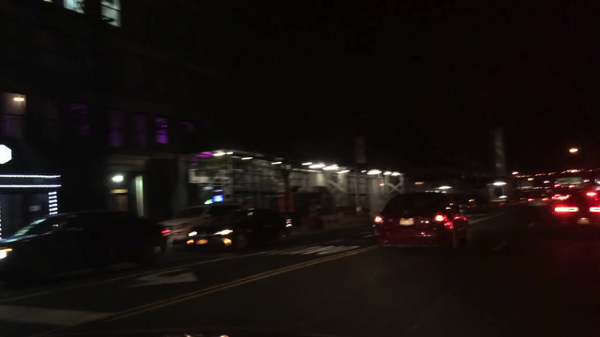car: (0, 207, 160, 280), (373, 191, 469, 253), (184, 207, 293, 254), (159, 200, 245, 249), (550, 185, 598, 231), (524, 190, 551, 213), (450, 193, 478, 213)
traffic sign: (355, 136, 365, 164)
